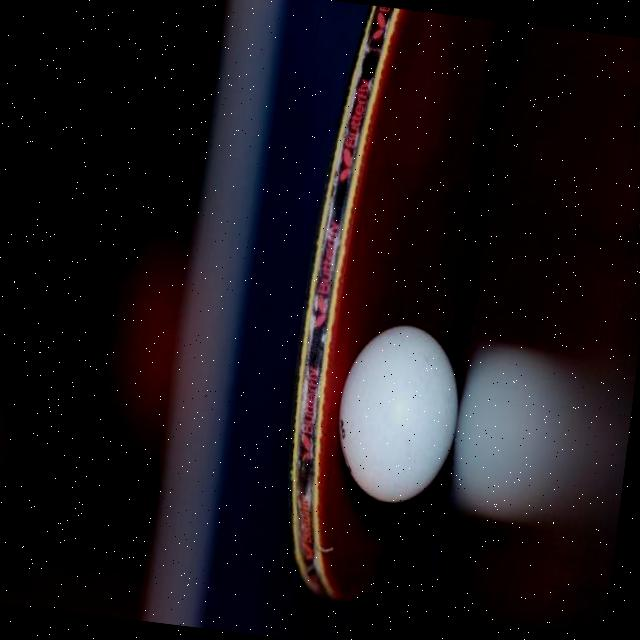ping-pong-ball: (326, 308, 471, 512)
